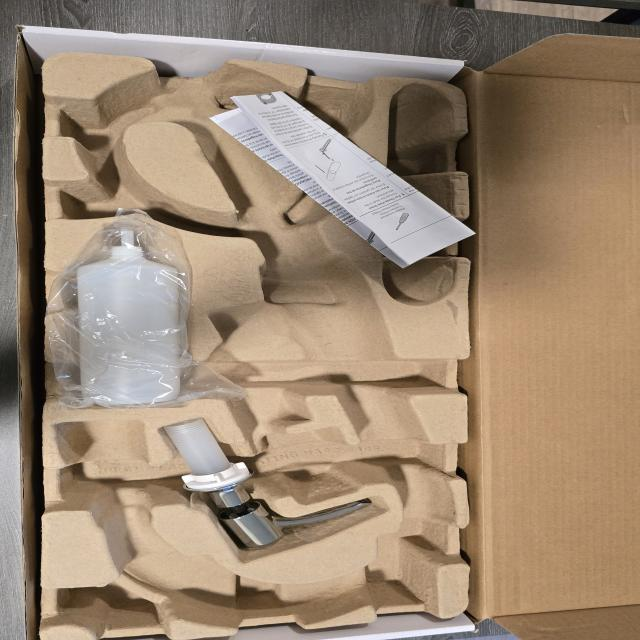1m: (54, 66, 445, 627)
2: (163, 419, 370, 548)
3: (74, 227, 181, 405)
4m: (372, 84, 456, 306)
5m: (293, 100, 355, 139)
6m: (62, 89, 159, 148)
7m: (69, 156, 195, 225)
8: (205, 91, 476, 269)
